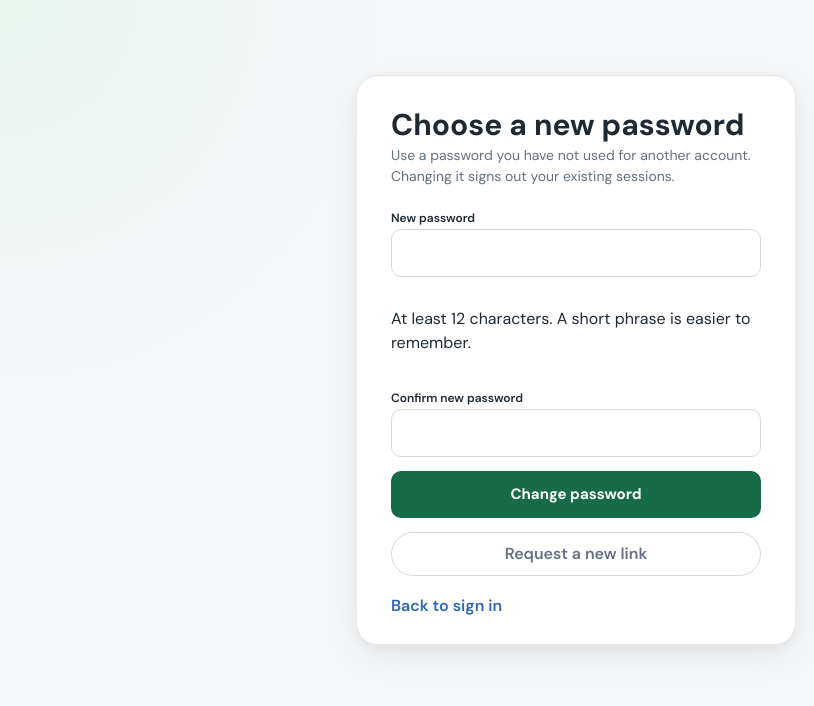
it: password recovery › removes the reset secret from the URL and only submits matching valid passwords
Type "replacement-password" into the password field labelled "New password" at (576, 253), box [391, 229, 761, 277]
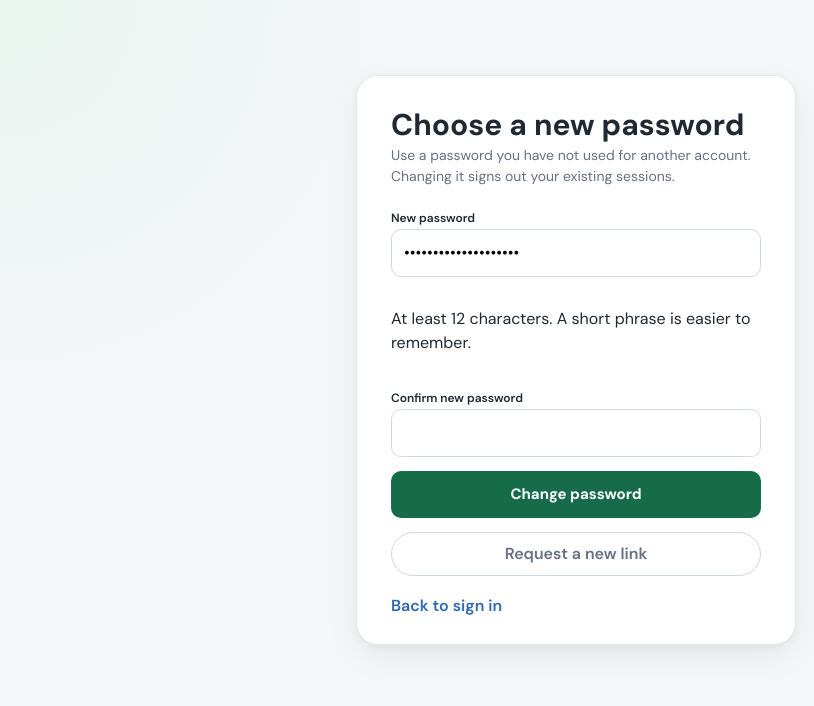
Type "different-password" into the password field labelled "Confirm new password" at (576, 433), box [391, 409, 761, 457]
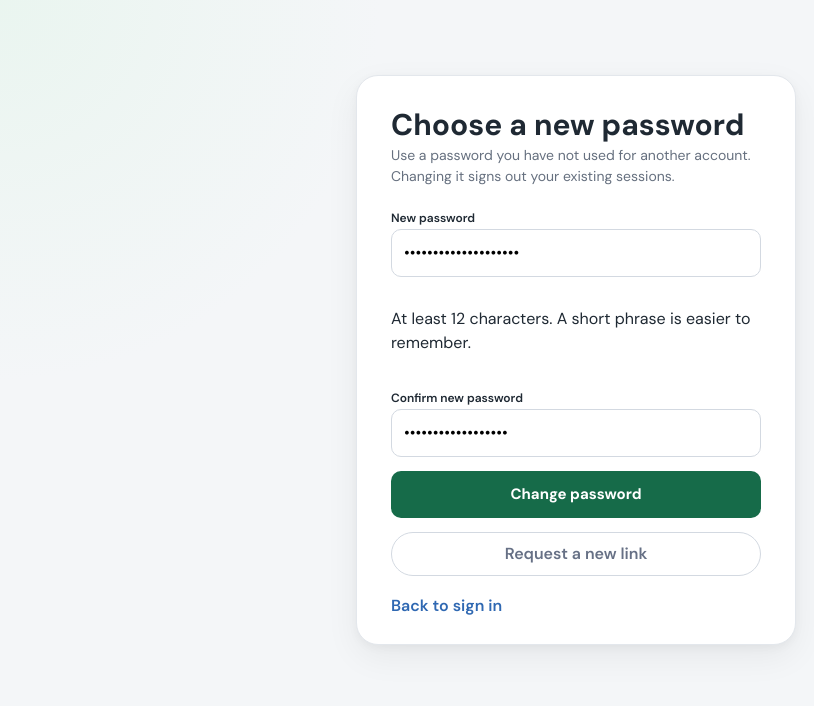
Click the button "Change password" at (576, 495), box [391, 471, 761, 518]
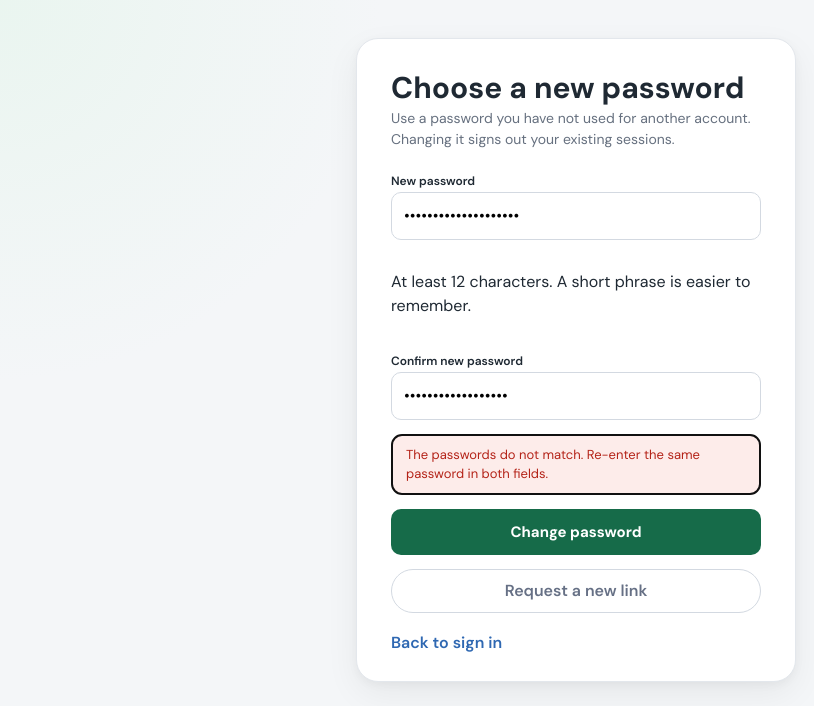
Result: the message shows "do not match" at [406, 446, 700, 482]
Type "replacement-password" into the password field labelled "Confirm new password" at (576, 396), box [391, 372, 761, 420]
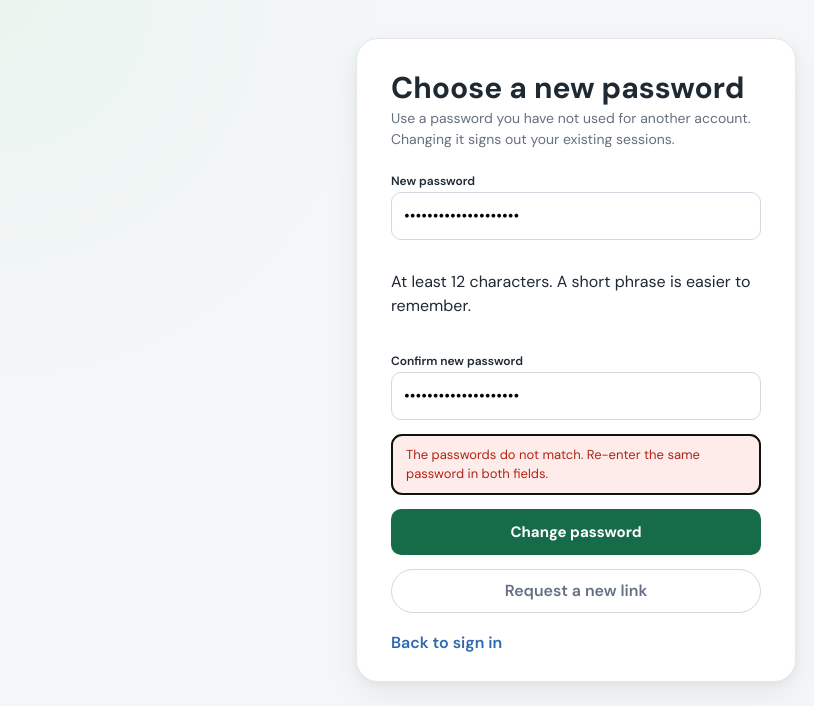
Click the button "Change password" at (576, 532), box [391, 509, 761, 555]
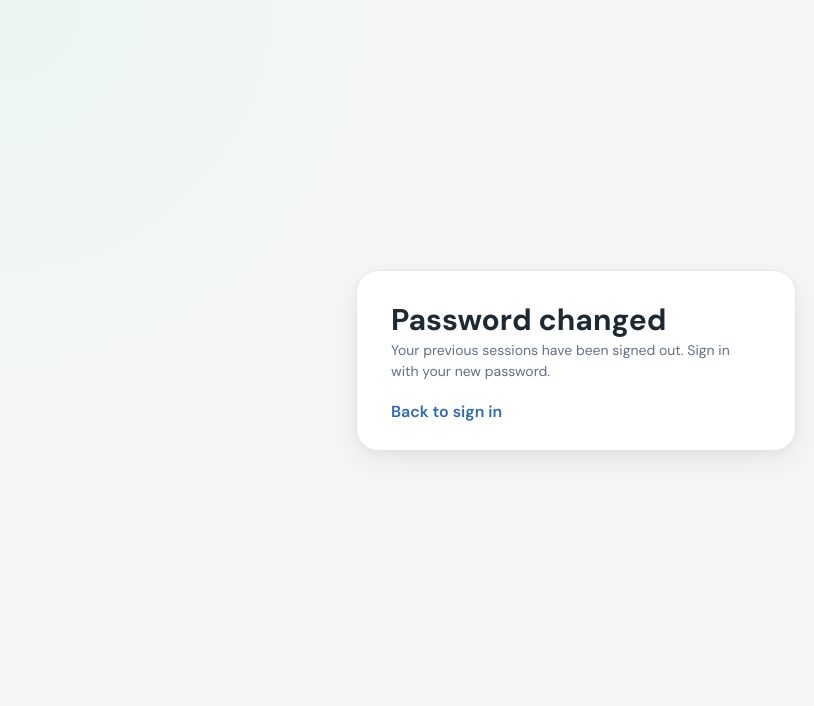
Result: the heading "Password changed" is shown at [391, 300, 666, 338]
